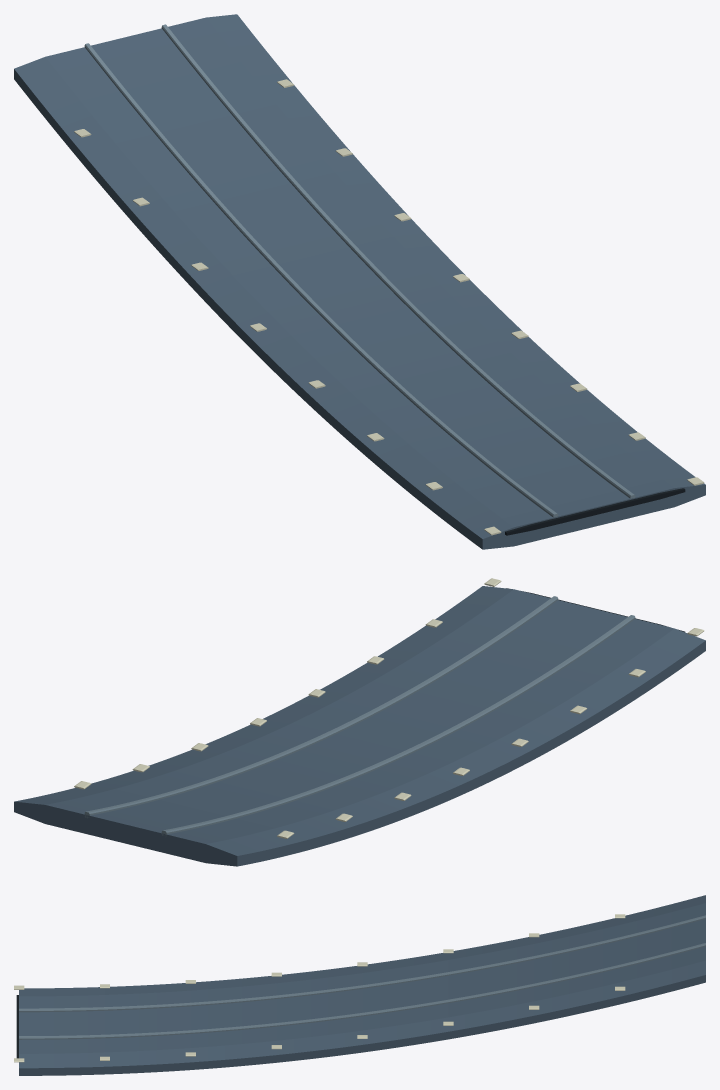
File: BridgeEscapeRamp.obj
3 views of the same model, one above another, from view 1: azimuth 30°, elevation 25°; view 2: azimuth 150°, elevation 25°; view 3: azimuth 270°, elevation 25° (orthographic). The views are drawn at different scales.
Visible parts, largest first — view 1: deck, running_rail, safety_mark, cross_tie; view 2: deck, running_rail, safety_mark; view 3: deck, running_rail, safety_mark.
Boxes of the visible parts, <box> form: deck: <box>14,14,705,549</box>; running_rail: <box>84,24,635,517</box>; safety_mark: <box>74,79,704,535</box>; cross_tie: <box>505,488,685,535</box>; deck: <box>14,586,705,866</box>; running_rail: <box>84,596,635,836</box>; safety_mark: <box>74,578,704,838</box>; deck: <box>19,895,705,1075</box>; running_rail: <box>19,915,705,1039</box>; safety_mark: <box>14,914,625,1062</box>.
Size of the model in its own units: 11 by 7.04 by 40.3.
